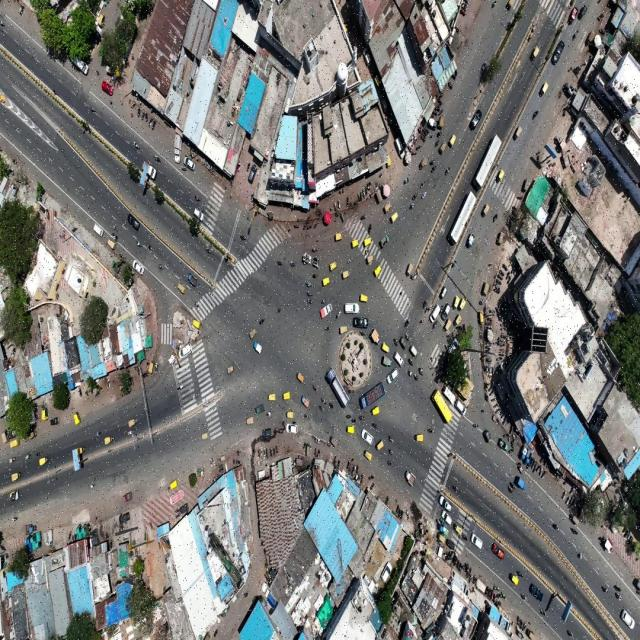3W: (432, 392, 454, 424), (125, 413, 137, 431), (530, 45, 539, 64), (448, 133, 458, 148), (508, 572, 520, 584), (245, 417, 257, 429), (347, 423, 356, 438), (382, 340, 391, 355), (407, 259, 413, 281), (454, 522, 464, 535), (379, 227, 389, 238), (480, 311, 487, 326), (331, 434, 341, 444), (170, 474, 181, 483), (338, 323, 346, 335), (148, 361, 155, 374), (391, 213, 398, 226), (505, 174, 512, 187), (72, 413, 82, 422), (103, 436, 112, 446), (360, 290, 366, 305), (334, 232, 343, 242), (350, 239, 360, 248), (250, 328, 258, 339), (322, 276, 330, 287), (464, 246, 470, 260), (24, 463, 32, 473), (374, 265, 382, 275), (39, 458, 49, 466), (341, 270, 351, 278), (374, 338, 382, 347), (330, 259, 338, 268), (492, 264, 498, 276), (282, 392, 289, 402), (366, 256, 376, 263), (201, 433, 209, 441), (109, 240, 116, 249), (363, 240, 372, 247), (268, 394, 275, 401), (286, 411, 293, 417)
Bus: (474, 132, 502, 189), (449, 191, 478, 244), (92, 221, 104, 236)
Cars: (466, 532, 488, 553), (442, 386, 459, 404), (471, 108, 483, 133), (178, 345, 193, 363), (438, 496, 455, 511), (491, 541, 505, 559), (133, 256, 146, 275), (354, 315, 367, 333), (192, 207, 206, 223), (286, 423, 299, 440), (492, 191, 503, 211), (343, 302, 359, 315), (441, 509, 453, 525), (456, 402, 469, 416), (126, 214, 139, 228), (431, 304, 441, 321), (393, 352, 405, 366), (377, 196, 388, 211), (444, 301, 453, 319), (184, 157, 196, 170), (470, 286, 477, 308), (118, 513, 131, 523), (479, 245, 487, 261), (388, 373, 397, 381), (362, 432, 373, 437)
LCV: (321, 299, 334, 318), (300, 395, 312, 409), (517, 478, 525, 492), (254, 404, 265, 414), (410, 346, 419, 358), (383, 356, 390, 366), (255, 344, 263, 351), (226, 366, 235, 372)
M2W: (506, 481, 516, 497), (424, 424, 434, 438), (246, 244, 256, 256), (412, 372, 421, 385), (468, 225, 478, 236), (550, 519, 560, 530), (540, 604, 549, 616), (450, 484, 460, 494), (428, 156, 437, 166), (568, 528, 578, 537), (614, 579, 621, 591), (364, 446, 373, 455), (430, 165, 439, 174), (519, 592, 528, 601), (288, 260, 297, 269), (266, 408, 275, 417), (387, 434, 395, 444), (154, 151, 161, 162), (517, 568, 524, 579), (521, 159, 526, 174), (345, 257, 353, 266), (365, 225, 373, 234), (615, 592, 621, 604), (275, 305, 283, 314), (386, 460, 394, 469), (305, 279, 313, 288), (277, 258, 284, 268), (392, 337, 399, 347), (419, 367, 426, 377), (319, 404, 326, 414), (244, 231, 250, 242), (374, 404, 379, 417), (258, 316, 266, 324), (157, 263, 164, 272), (386, 449, 395, 456), (409, 357, 415, 367), (151, 122, 159, 129), (422, 191, 430, 198), (602, 584, 609, 592), (421, 300, 429, 307), (445, 167, 452, 175), (472, 422, 479, 430), (308, 296, 314, 305), (194, 193, 200, 202), (577, 550, 583, 559), (522, 122, 526, 135), (482, 263, 487, 273), (133, 469, 140, 476), (493, 218, 500, 225), (491, 183, 498, 190), (312, 273, 319, 280), (464, 538, 470, 546), (407, 368, 413, 376), (306, 292, 314, 298), (325, 323, 330, 332), (177, 384, 184, 390), (300, 375, 306, 381), (373, 424, 378, 431)
MAV: (326, 364, 350, 410)
Truck: (358, 381, 387, 407)
